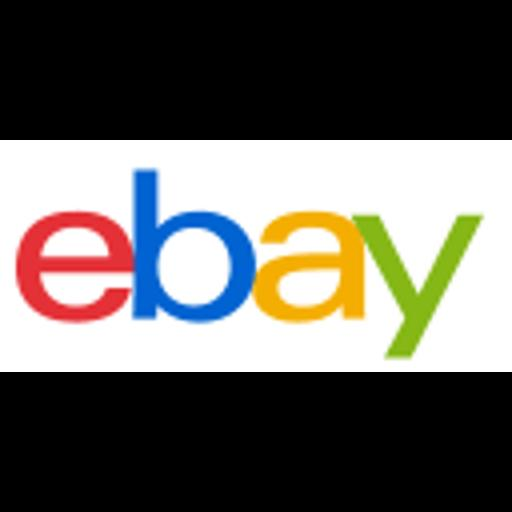eBay: (0, 140, 512, 372)
